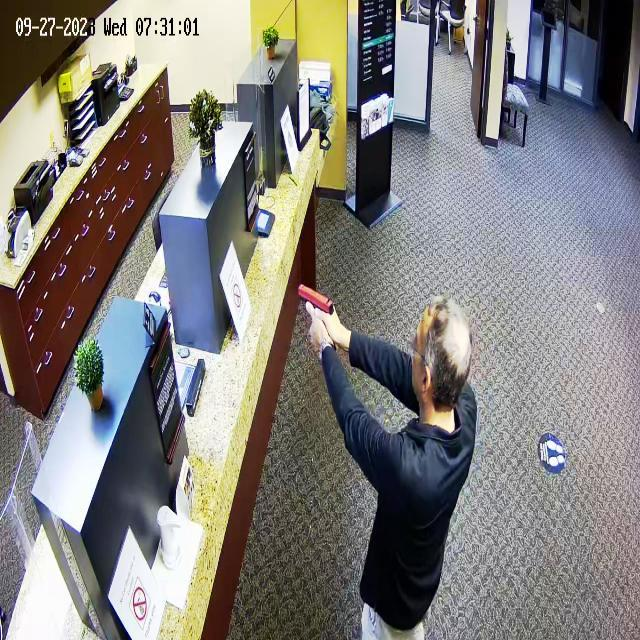Gun: (286, 268, 342, 340)
